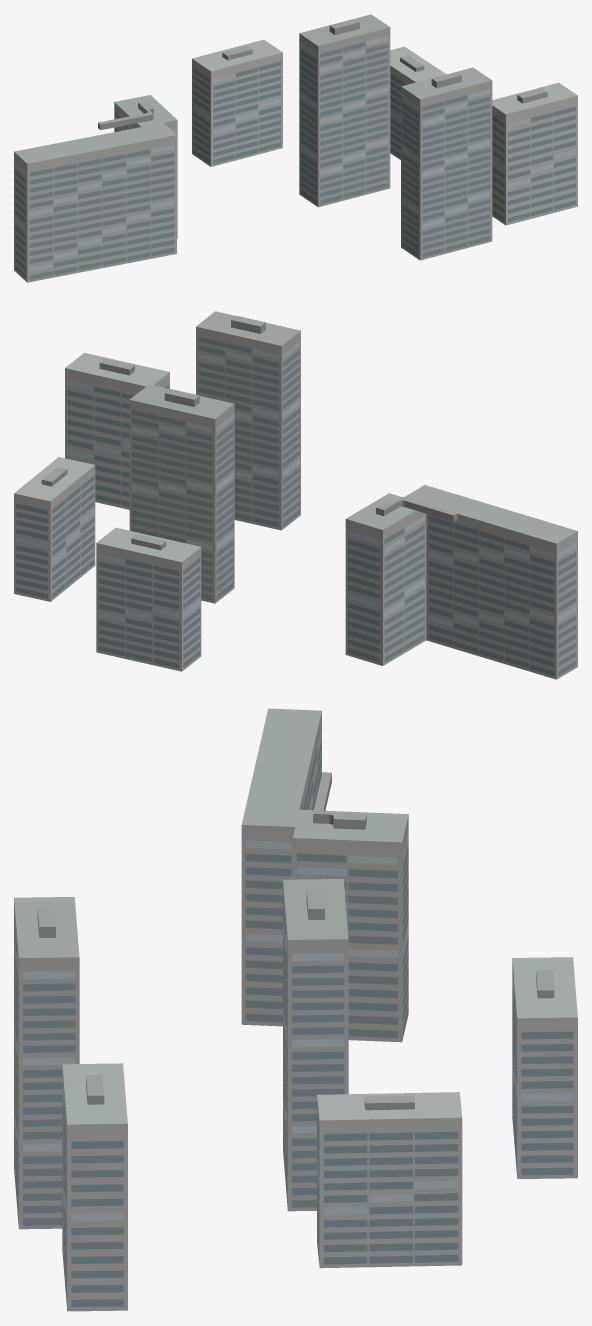
Rendered from apt-a13379001.glb.
3 renders of one model, top to bottom at view 1: azimuth 30°, elevation 25°; view 2: azimuth 150°, elevation 25°; view 3: azimuth 270°, elevation 25°, orthographic. The views are drawn at different scales.
Parts seen in each view (by area): view 1: apt-a13379001; view 2: apt-a13379001; view 3: apt-a13379001.
Boxes of the visible parts, x1,y1,x2,y2 form: apt-a13379001: (14, 14, 577, 282); apt-a13379001: (14, 311, 577, 679); apt-a13379001: (14, 708, 577, 1311).
Size of the model in its own units: 190 by 62 by 112.
